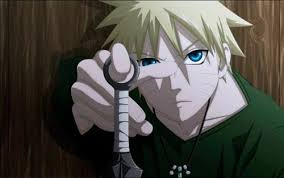Naruto: (114, 1, 240, 122)
